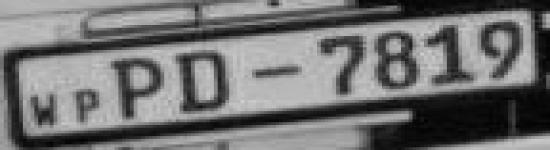-: (250, 62, 304, 83)
1: (422, 20, 479, 86)
7: (312, 30, 369, 97)
8: (370, 28, 421, 92)
9: (477, 16, 525, 82)
D: (169, 48, 235, 115)
P: (108, 54, 166, 119), (71, 87, 107, 125)
W: (29, 90, 65, 129)
